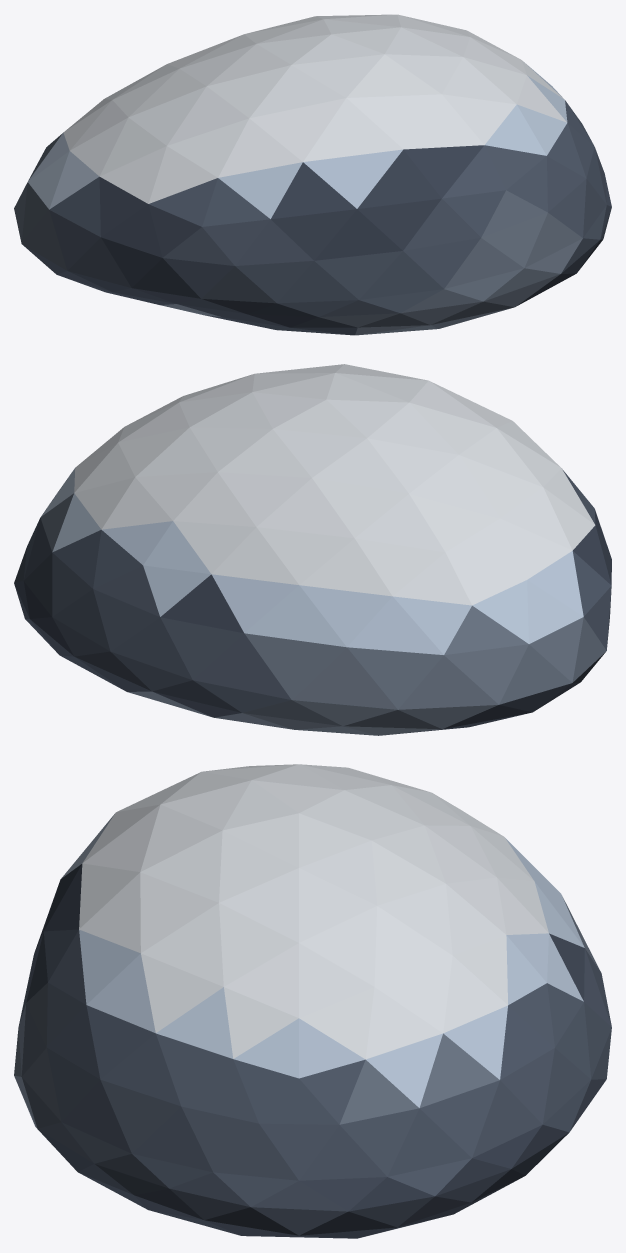
Rendered from Rock_Medium.glb.
3 views of the same model, one above another, from view 1: azimuth 30°, elevation 25°; view 2: azimuth 150°, elevation 25°; view 3: azimuth 270°, elevation 25° (orthographic). The views are drawn at different scales.
Visible parts, largest first — view 1: Rock_Medium; view 2: Rock_Medium; view 3: Rock_Medium.
Boxes of the visible parts, x1,y1,x2,y2 form: Rock_Medium: (14,14,611,335); Rock_Medium: (14,364,611,735); Rock_Medium: (14,764,611,1238).
Bounding box in the file's own units: 4.97 × 2.29 × 3.89.
